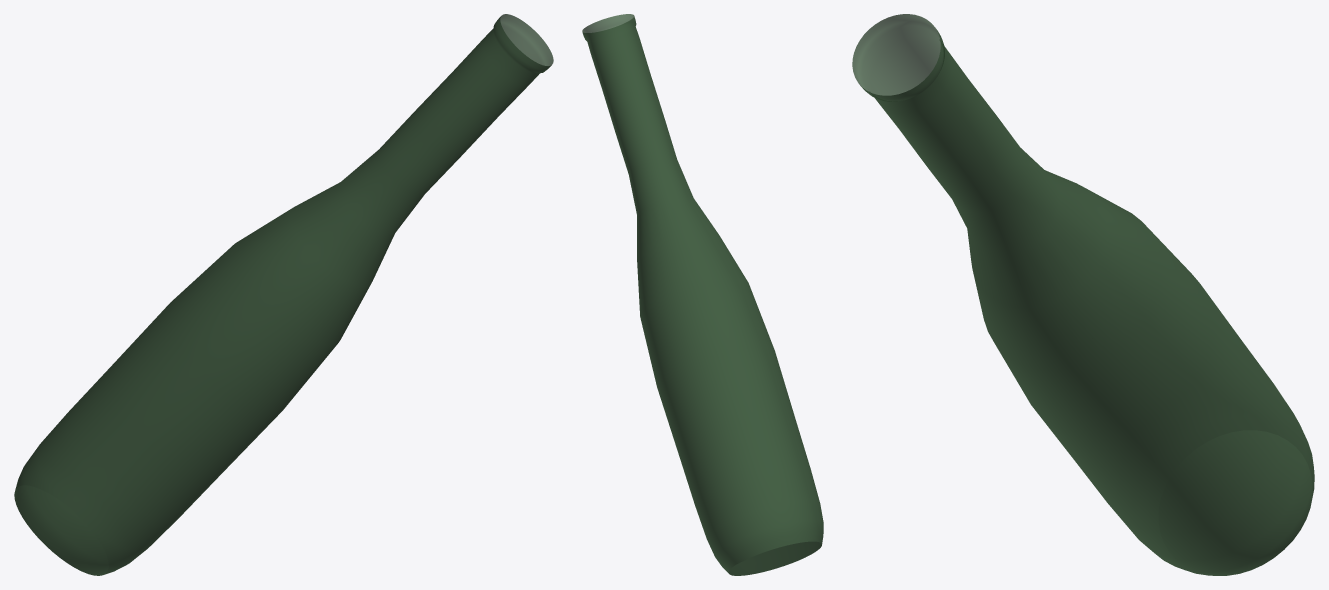
File: glass4.fbx
3 renders of one model, left to right at view 1: azimuth 30°, elevation 25°; view 2: azimuth 150°, elevation 25°; view 3: azimuth 270°, elevation 25°, orthographic. The views are drawn at different scales.
Parts seen in each view (by area): view 1: Bottle2; view 2: Bottle2; view 3: Bottle2.
Part boxes in pixels (bbox=[...]): Bottle2: bbox=[14, 14, 553, 575]; Bottle2: bbox=[582, 14, 823, 575]; Bottle2: bbox=[852, 14, 1314, 575].
Size of the model in its own units: 19.34 by 25.23 by 14.21.
